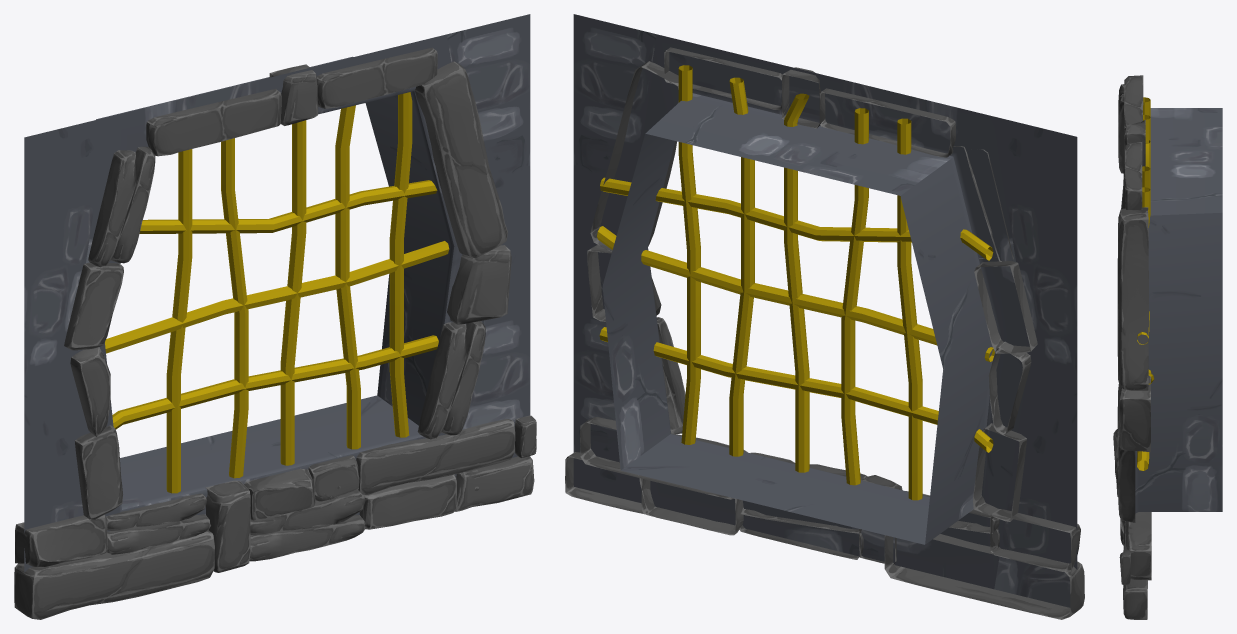
File: wall with bars 2.fbx
3 renders of one model, left to right at view 1: azimuth 30°, elevation 25°; view 2: azimuth 150°, elevation 25°; view 3: azimuth 270°, elevation 25°, orthographic. The views are drawn at different scales.
Parts seen in each view (by area): view 1: Wall_with_bars_2; view 2: Wall_with_bars_2; view 3: Wall_with_bars_2.
Boxes of the visible parts, x1,y1,x2,y2 form: Wall_with_bars_2: (14, 14, 536, 619); Wall_with_bars_2: (565, 14, 1084, 619); Wall_with_bars_2: (1113, 75, 1222, 619).
Size of the model in its own units: 14.06 by 12.72 by 3.12.
